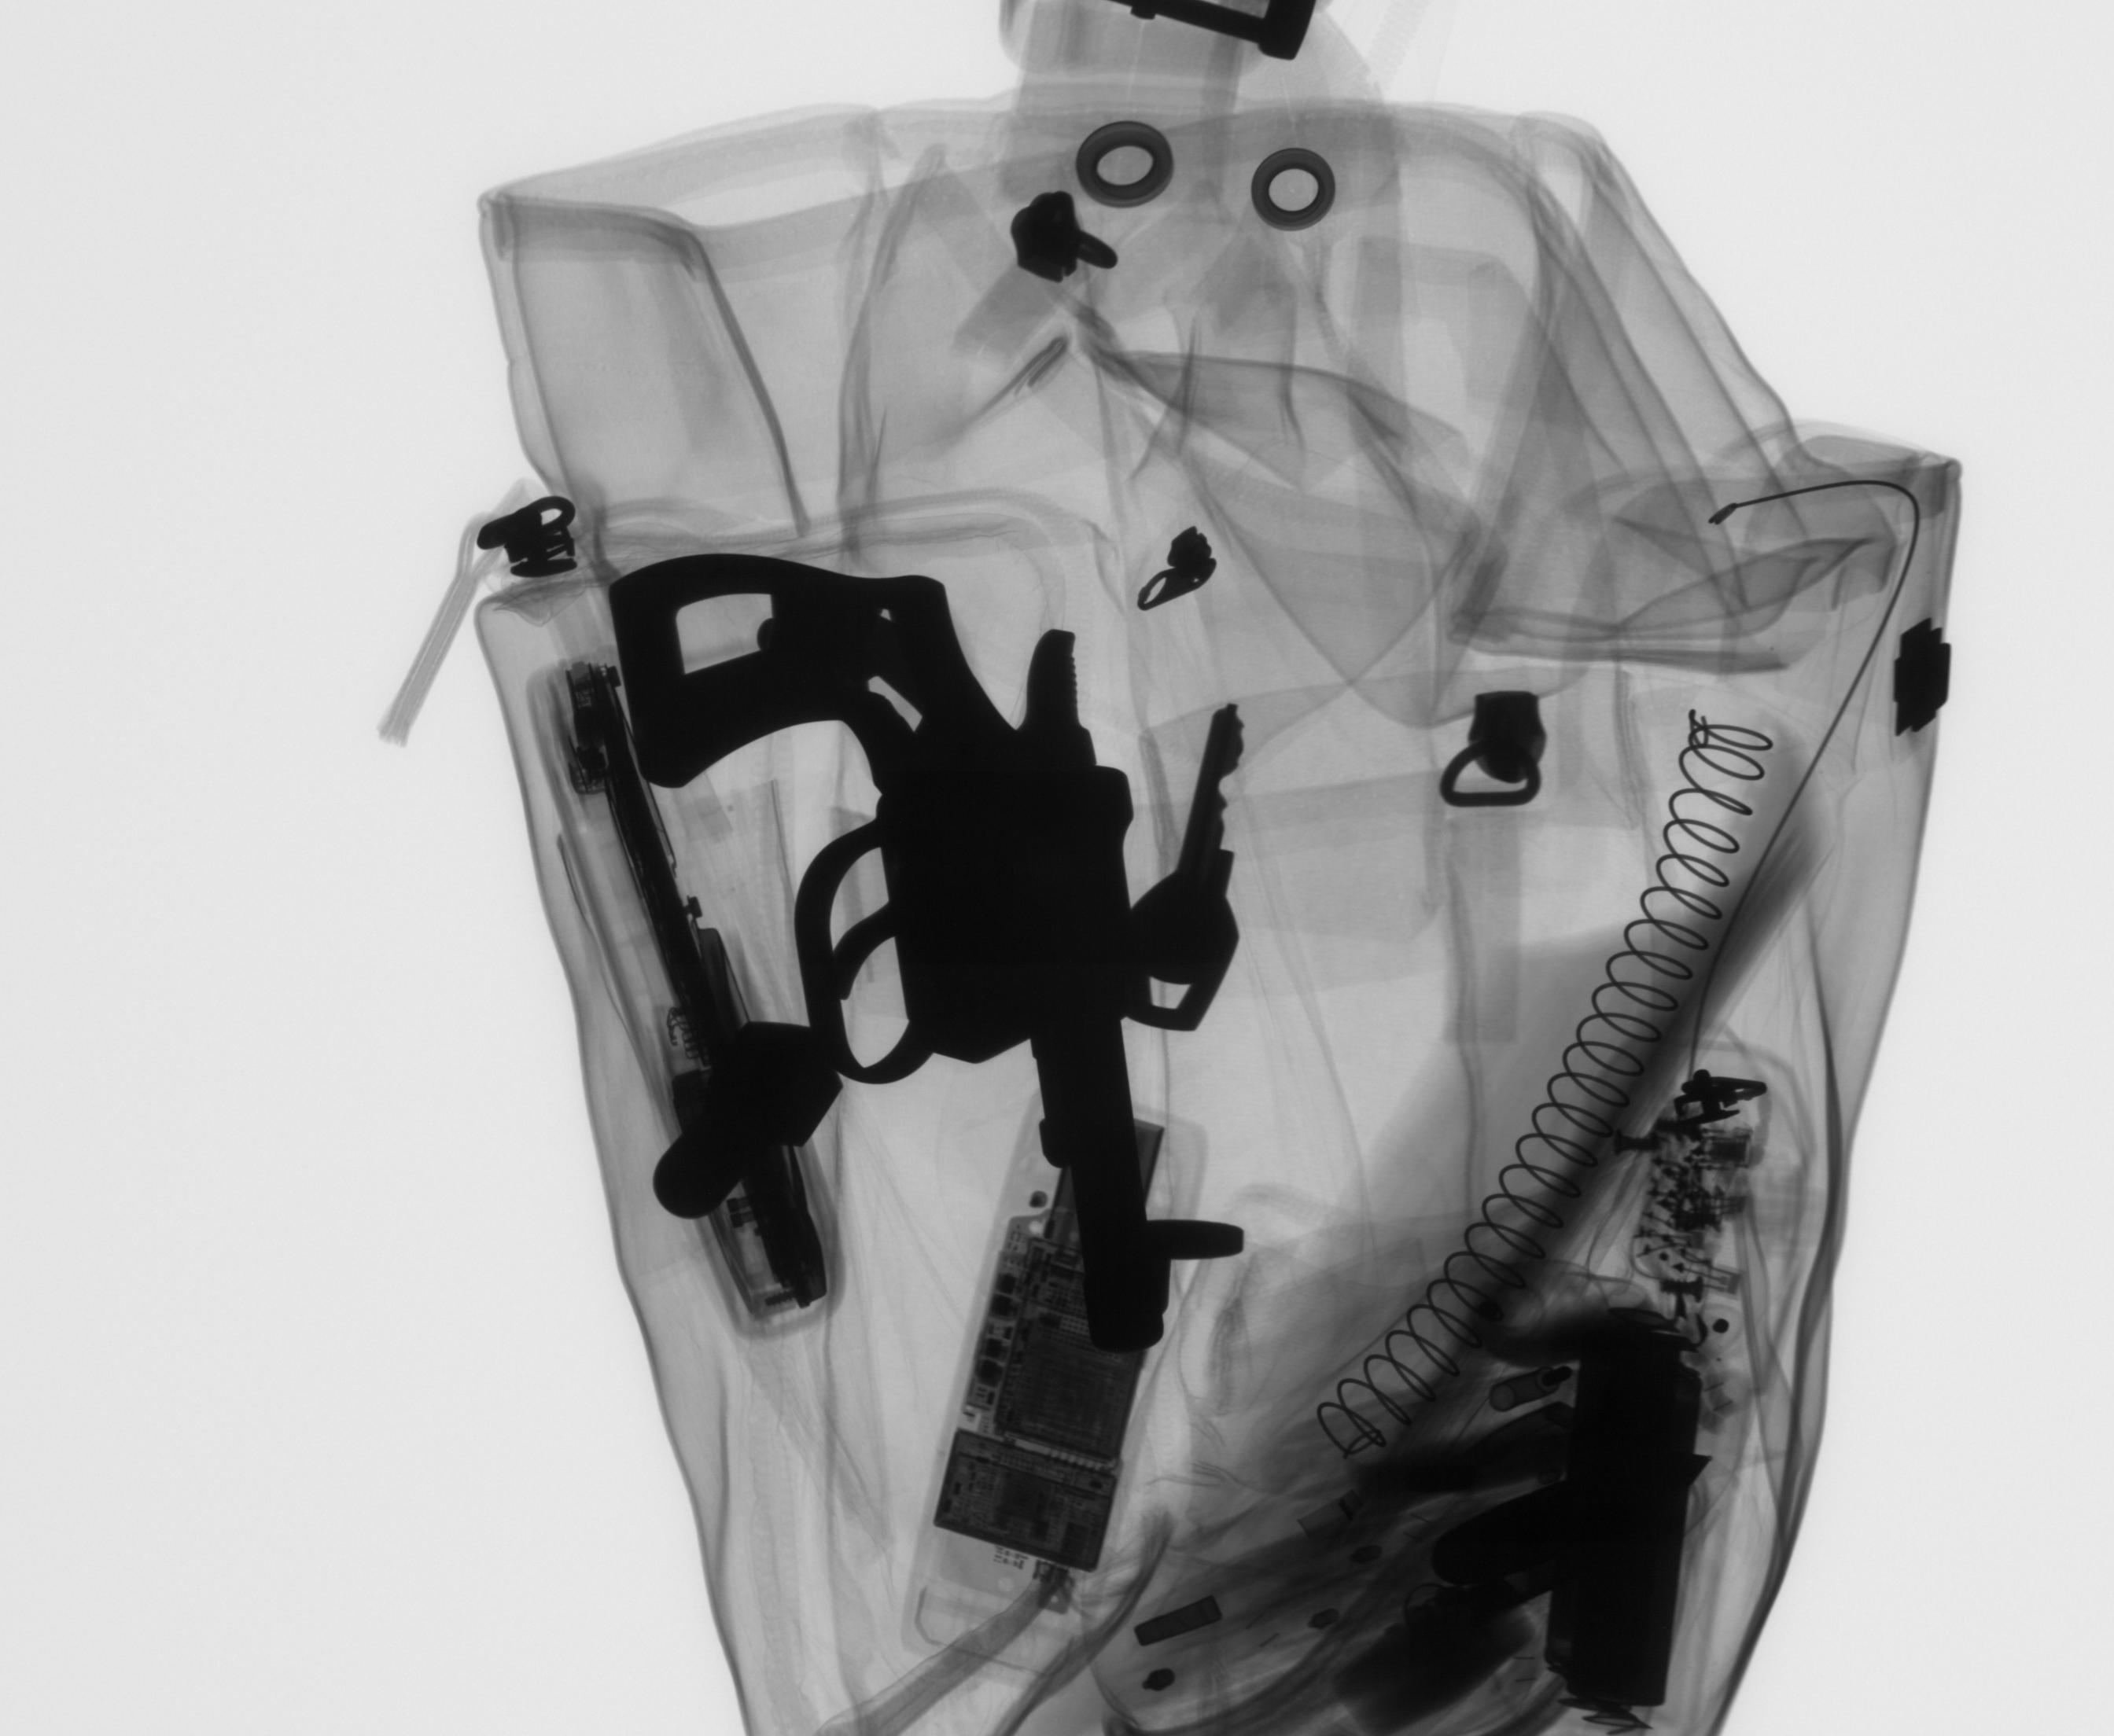Handgun: (600, 548, 1191, 1364)
